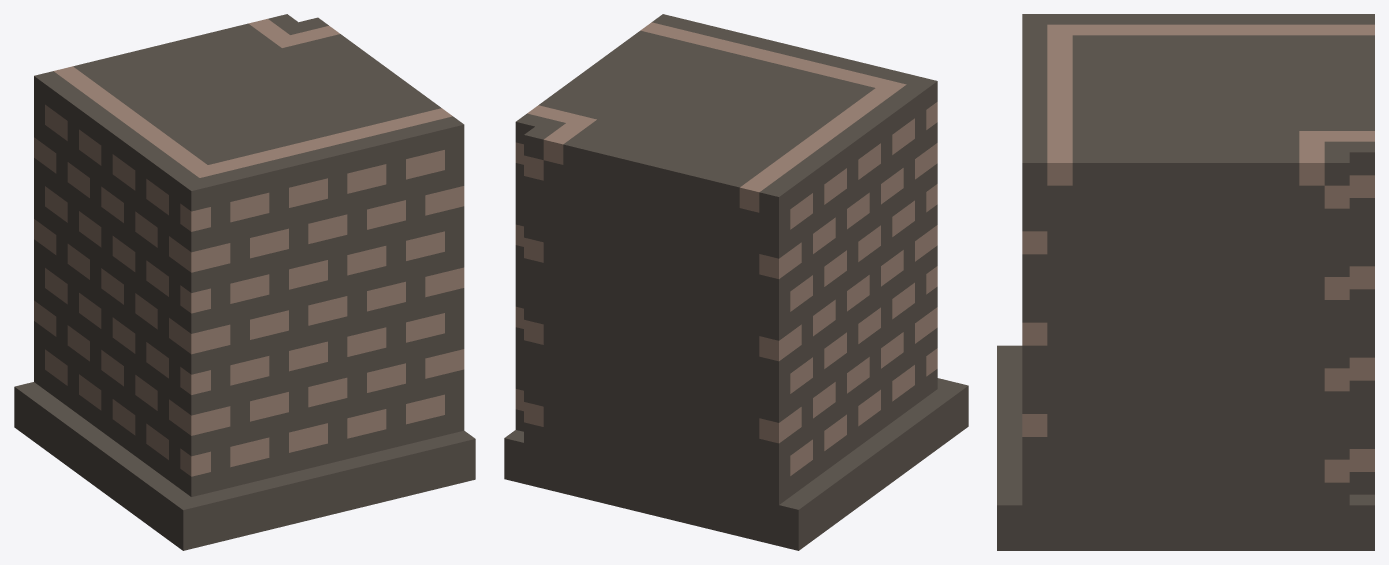
Rendered from dungeon_a_a_inner_wall_corner_a.obj.
3 renders of one model, left to right at view 1: azimuth 30°, elevation 25°; view 2: azimuth 150°, elevation 25°; view 3: azimuth 270°, elevation 25°, orthographic. The views are drawn at different scales.
Bounding box in the file's own units: 1.5 × 1.7 × 1.5.
1 material, 1 textured.
